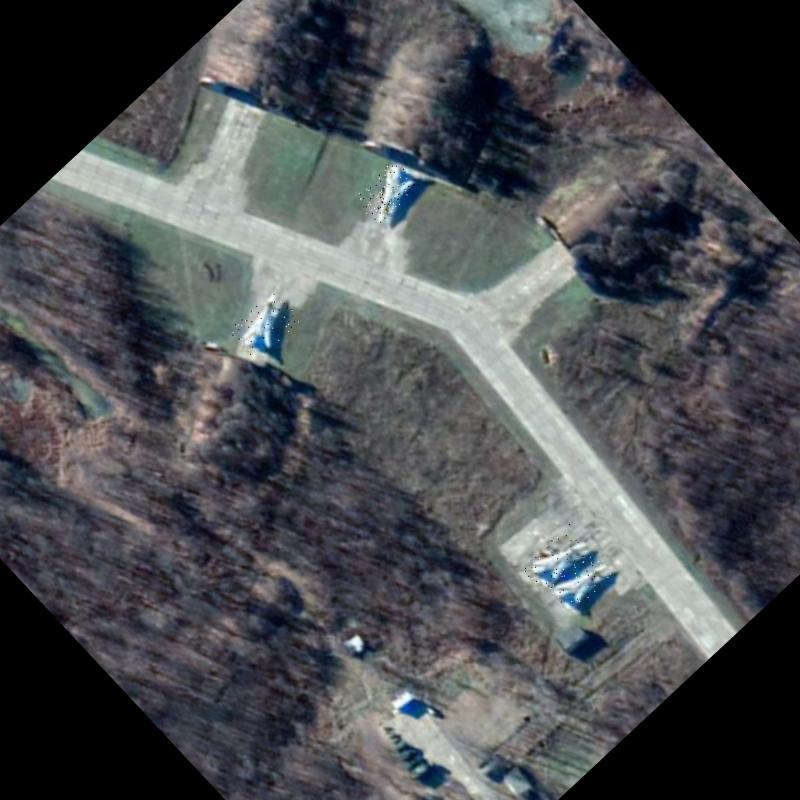A20: (228, 288, 302, 361), (522, 523, 594, 594), (353, 158, 421, 225), (547, 549, 615, 615)
